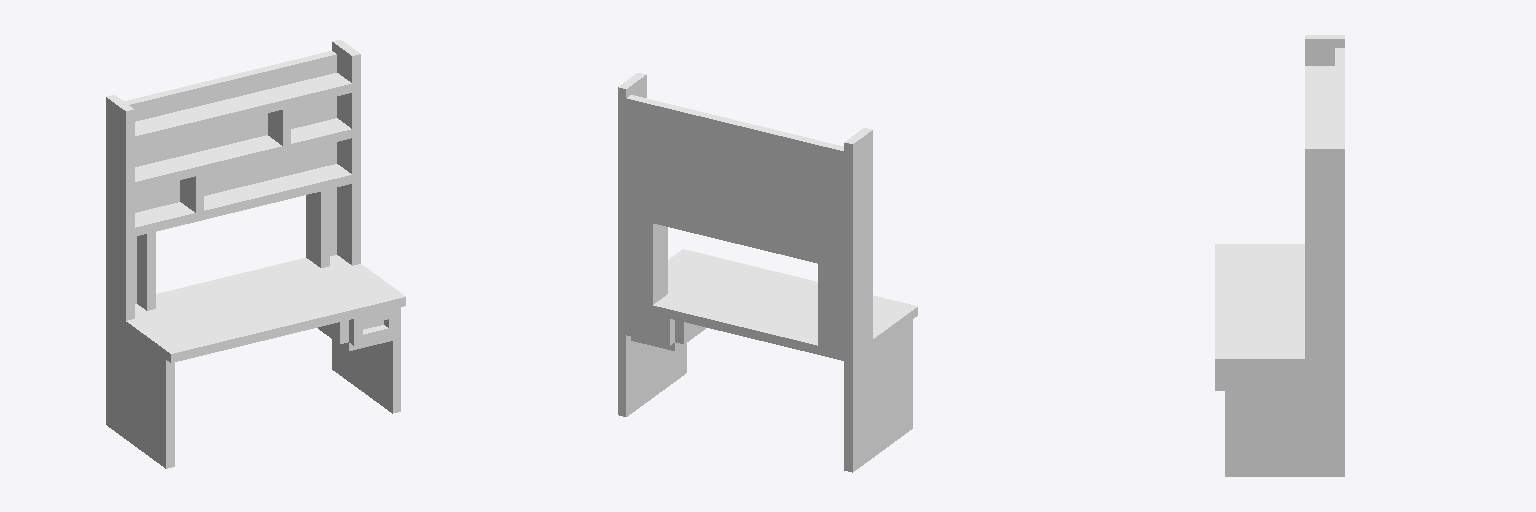
The model's file is Decor-50.obj.
3 views of the same model, side by side, from view 1: azimuth 30°, elevation 25°; view 2: azimuth 150°, elevation 25°; view 3: azimuth 270°, elevation 25° (orthographic).
Visible parts, largest first — view 1: object 1; view 2: object 1; view 3: object 1.
Part boxes in pixels (x1,y1,x2,y2): object 1: (106,39,405,468); object 1: (618,73,917,472); object 1: (1215,35,1344,476).
Bounding box in the file's own units: 2.7 × 3.6 × 1.3.